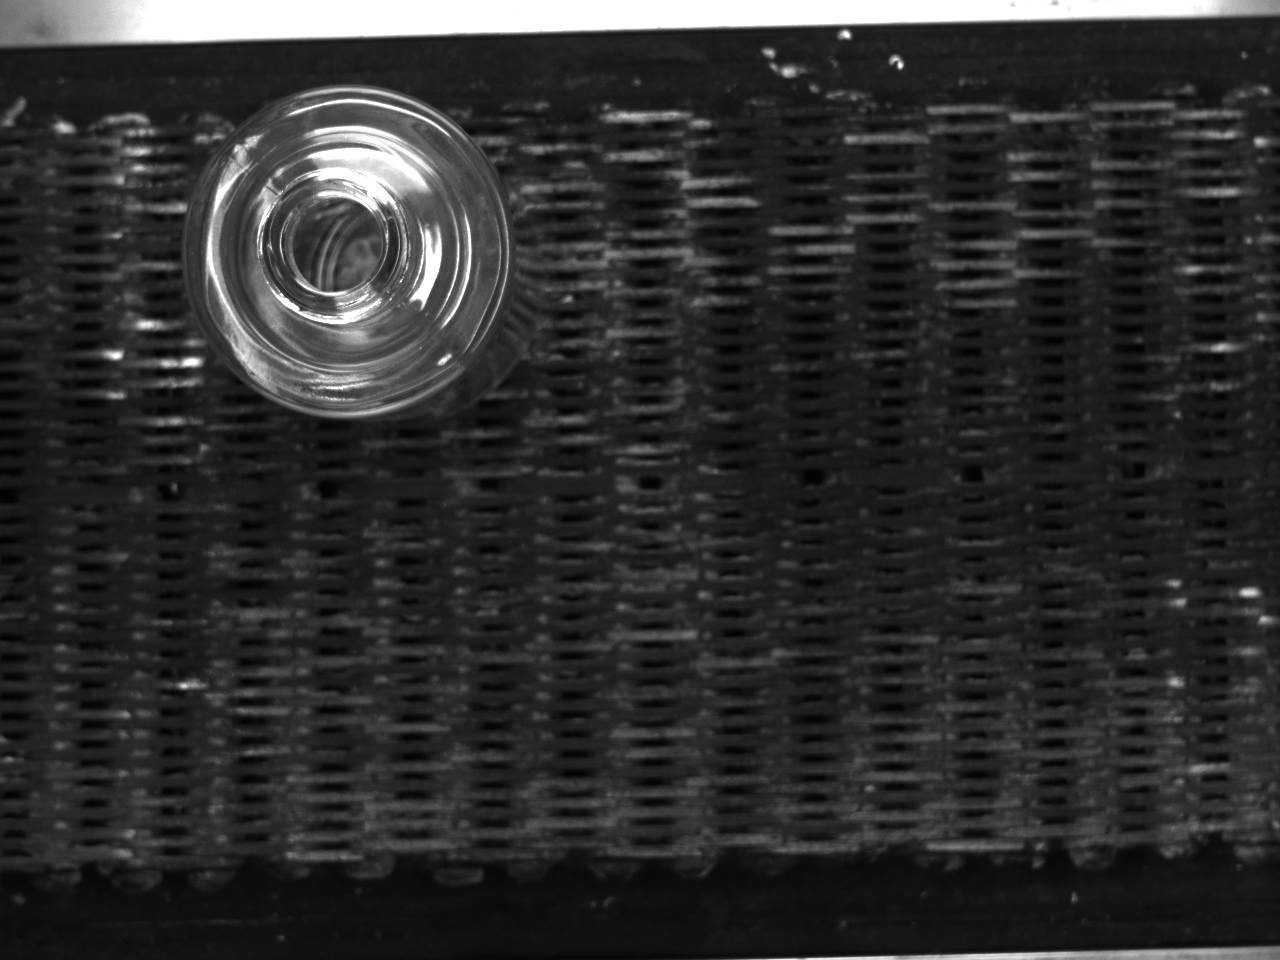bottleneck: (259, 168, 408, 325)
